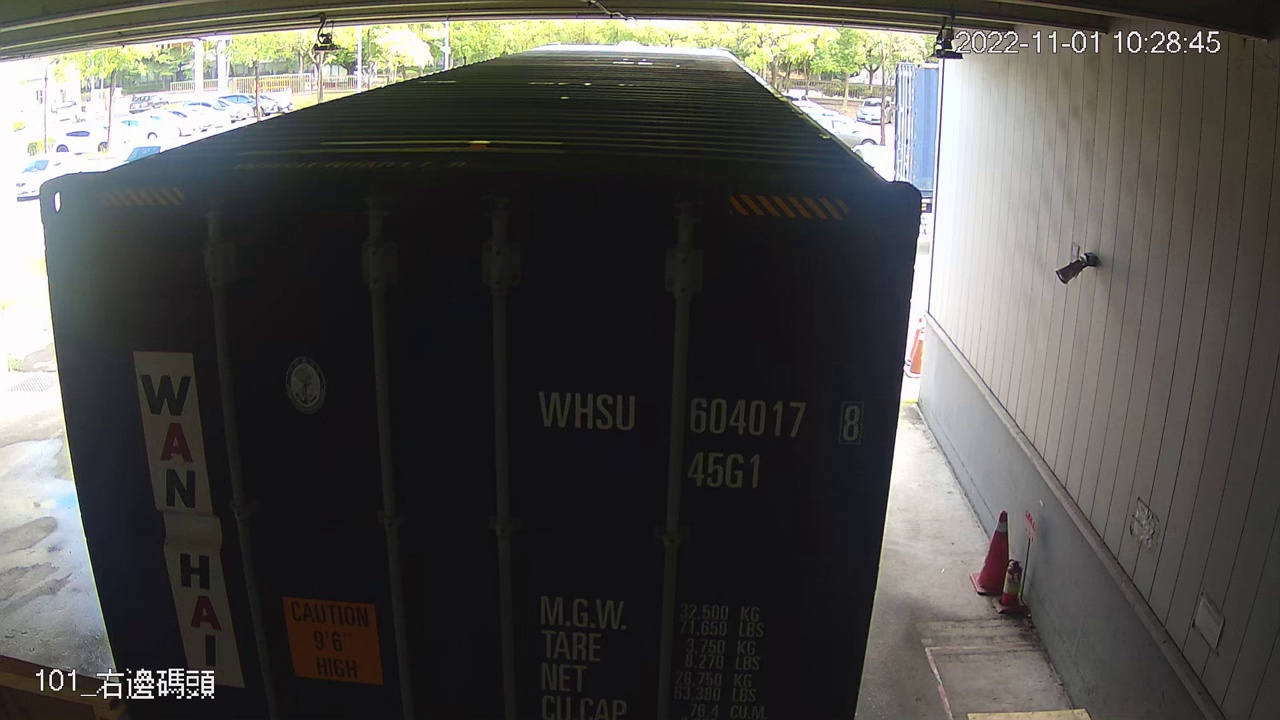container: (525, 371, 880, 502)
